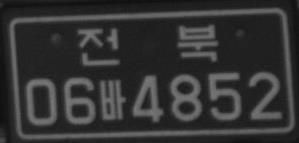0: (25, 77, 57, 125)
2: (248, 71, 282, 120)
4: (132, 74, 164, 122)
5: (207, 71, 243, 121)
6: (63, 75, 96, 124)
8: (169, 73, 202, 121)
바: (98, 79, 126, 120)
전북_D: (77, 22, 218, 66)
